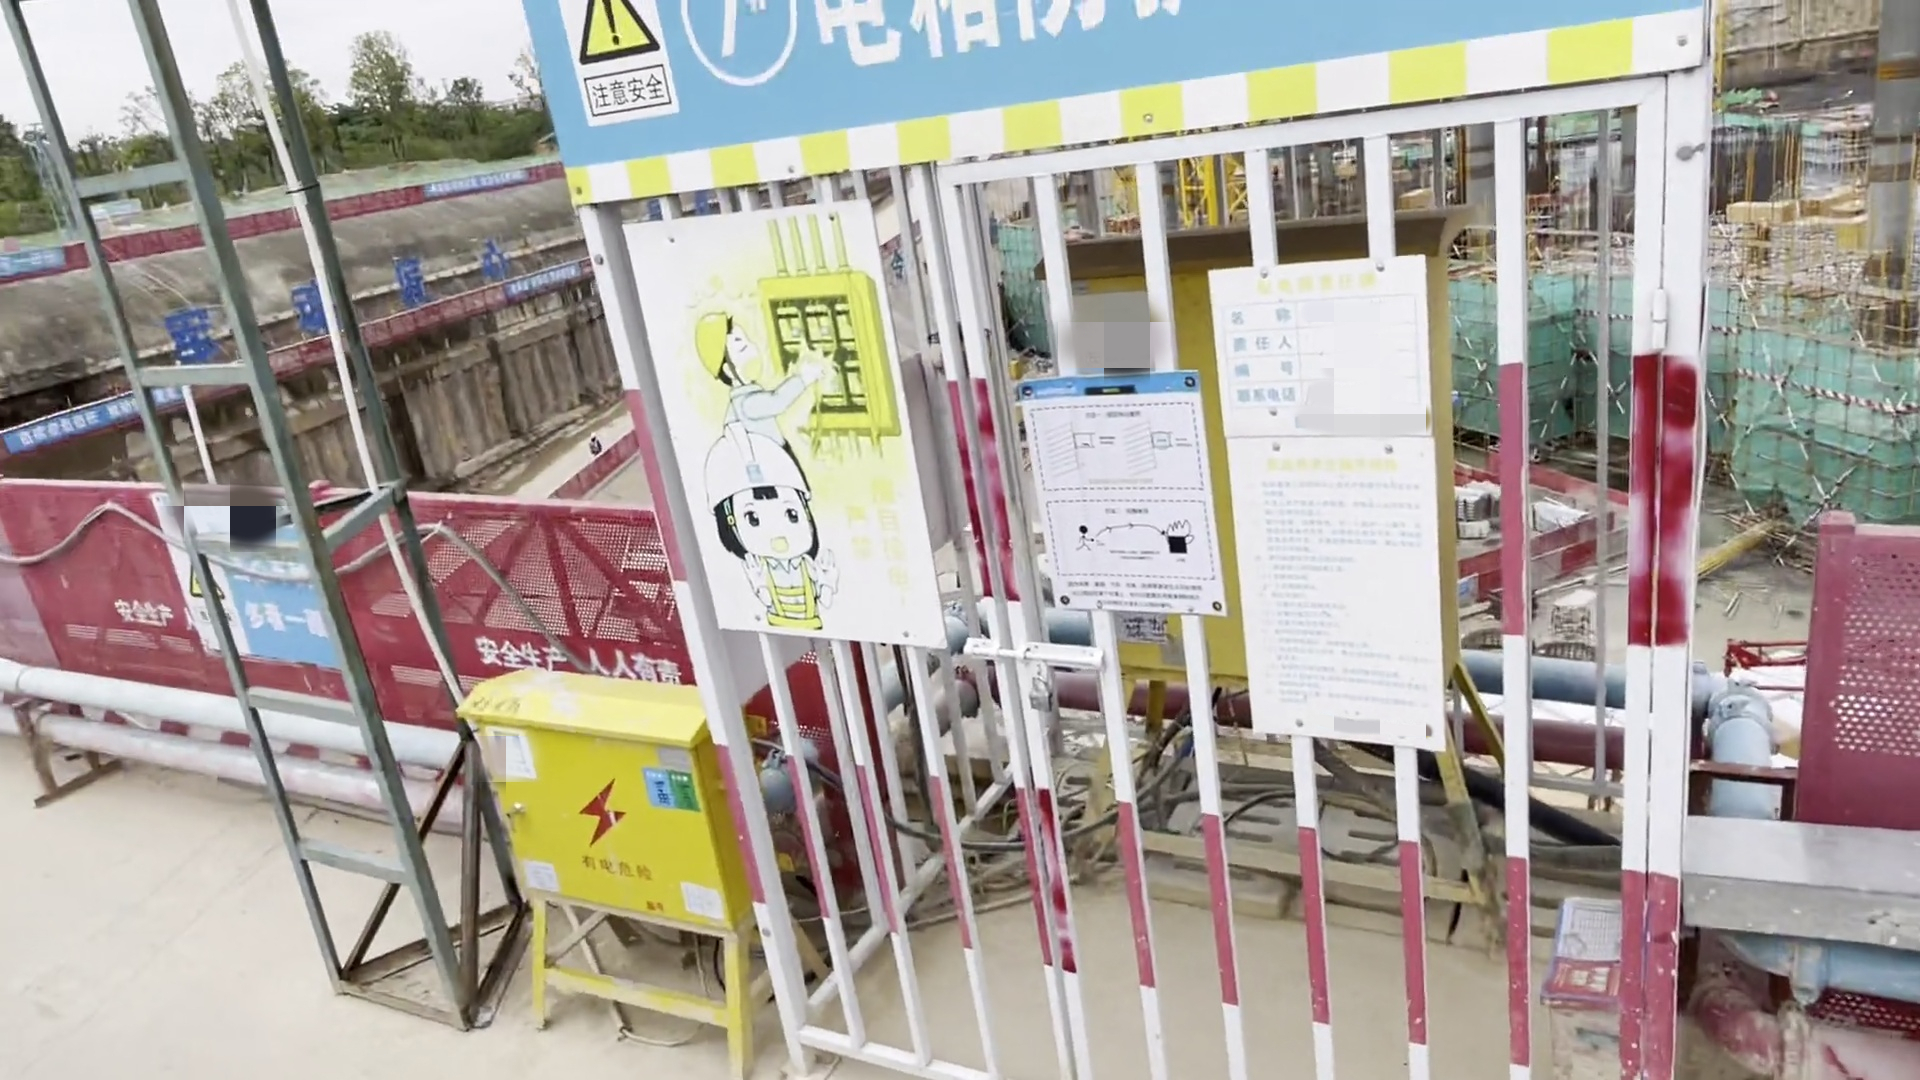ebox: (448, 665, 777, 1080)
fence: (11, 476, 667, 684)
slogan: (530, 1, 1724, 208), (626, 204, 964, 665), (158, 483, 375, 683)
